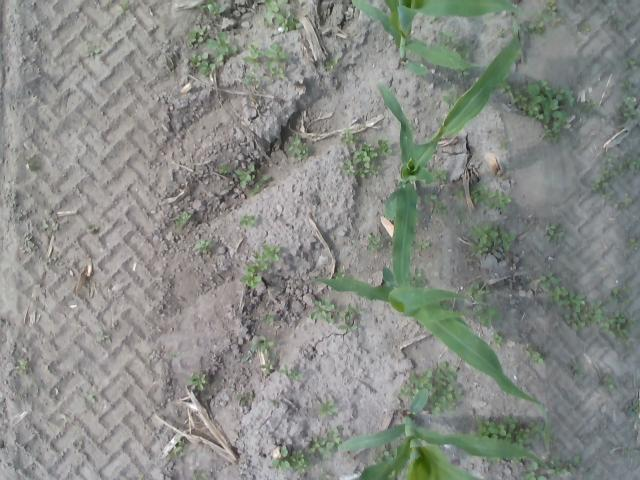Maize: (298, 267, 550, 452), (378, 18, 524, 288), (336, 387, 544, 480), (352, 1, 556, 76)
Weeds: (564, 285, 638, 346), (511, 78, 576, 146), (391, 360, 466, 416), (589, 151, 640, 210), (340, 134, 395, 181), (468, 414, 542, 446), (538, 271, 586, 314), (240, 40, 290, 81), (240, 241, 282, 288), (470, 221, 518, 258), (262, 0, 305, 38), (470, 184, 518, 216), (245, 332, 278, 378), (268, 445, 312, 478), (306, 428, 342, 464), (234, 159, 268, 196), (206, 30, 241, 64), (188, 50, 216, 78), (550, 455, 581, 480), (195, 0, 228, 23), (338, 304, 364, 332), (309, 298, 335, 324), (614, 93, 638, 121), (474, 304, 500, 329), (288, 136, 311, 164), (522, 343, 548, 366), (437, 28, 463, 50), (40, 208, 60, 236), (317, 398, 339, 422), (544, 220, 566, 244), (466, 281, 491, 302), (424, 194, 449, 214), (166, 440, 188, 462), (168, 211, 192, 231), (522, 462, 548, 480), (338, 128, 358, 149), (188, 370, 208, 391), (564, 358, 586, 377), (235, 390, 258, 408), (282, 362, 302, 382), (578, 98, 598, 118), (20, 235, 39, 256), (460, 39, 478, 61), (324, 52, 342, 73), (521, 21, 545, 36), (188, 26, 206, 46), (600, 375, 618, 395), (237, 213, 259, 229), (192, 239, 212, 256), (368, 232, 384, 252), (626, 398, 640, 420), (240, 73, 258, 90), (411, 268, 427, 286), (117, 0, 133, 17), (164, 59, 176, 81), (16, 358, 32, 374), (608, 15, 624, 31), (542, 0, 559, 15), (442, 90, 457, 107), (625, 56, 640, 72), (373, 450, 392, 462), (492, 331, 504, 350), (496, 138, 511, 153), (96, 330, 112, 344), (621, 442, 637, 456), (498, 78, 512, 94), (262, 313, 277, 327), (84, 48, 101, 60), (415, 240, 432, 252), (454, 212, 471, 224), (432, 168, 446, 182), (24, 161, 40, 173), (192, 470, 211, 480), (580, 22, 592, 37), (87, 394, 98, 410), (618, 80, 634, 91), (217, 163, 230, 176), (552, 16, 564, 30), (86, 224, 100, 235), (453, 190, 466, 201), (628, 237, 638, 251), (319, 471, 334, 480), (457, 70, 472, 79), (482, 457, 502, 463), (268, 398, 280, 408), (334, 269, 346, 278), (173, 350, 183, 360), (513, 458, 524, 464), (497, 28, 504, 36), (430, 16, 438, 22)
